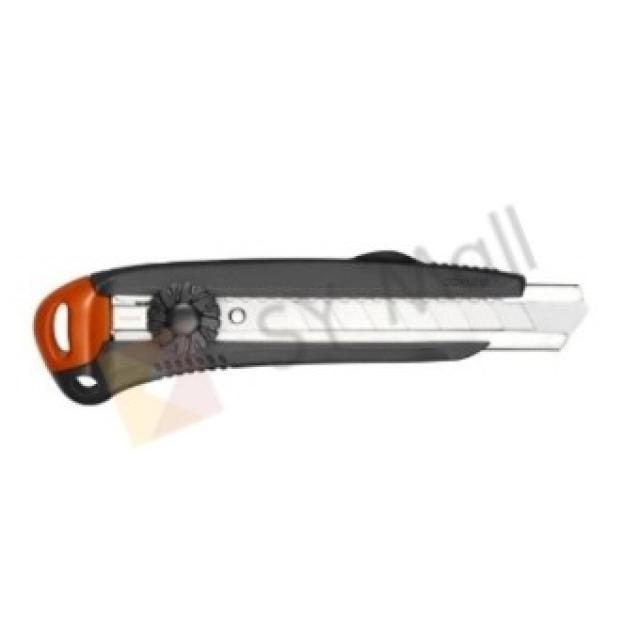cutter: (18, 237, 598, 413)
